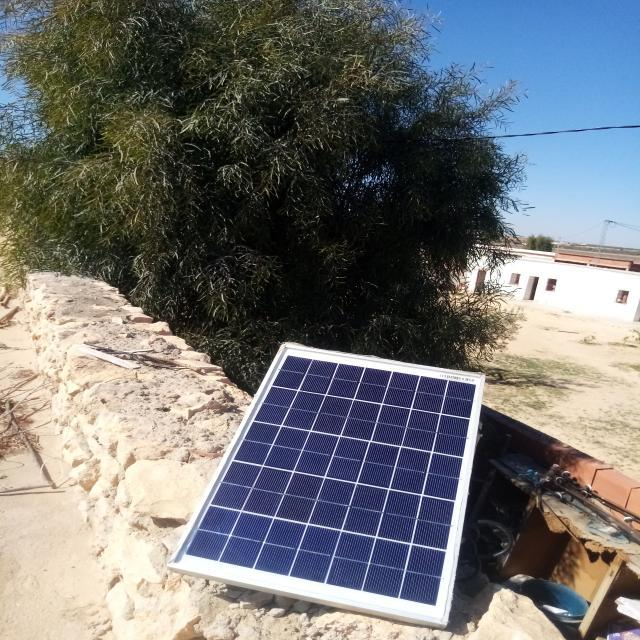no faulty: (170, 345, 482, 625)
